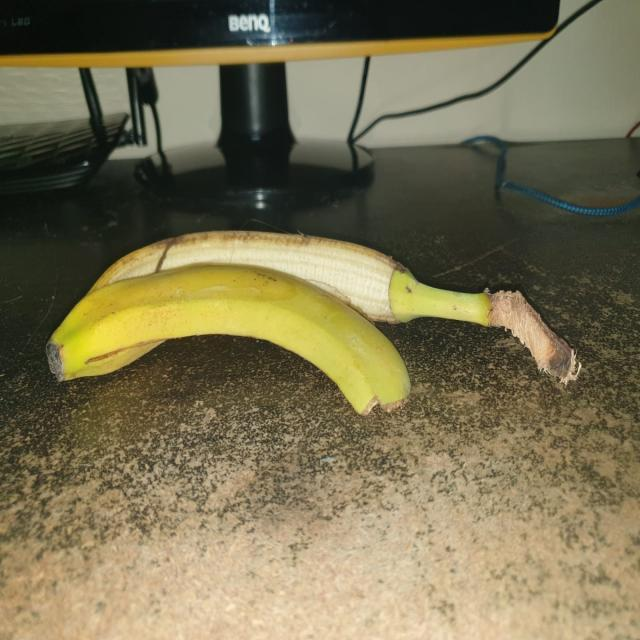banana-peel: (83, 227, 581, 387), (45, 261, 411, 416)
